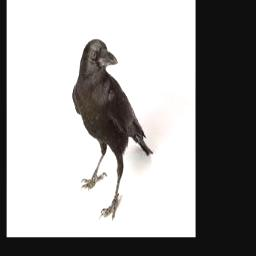Crow: (72, 38, 153, 222)
